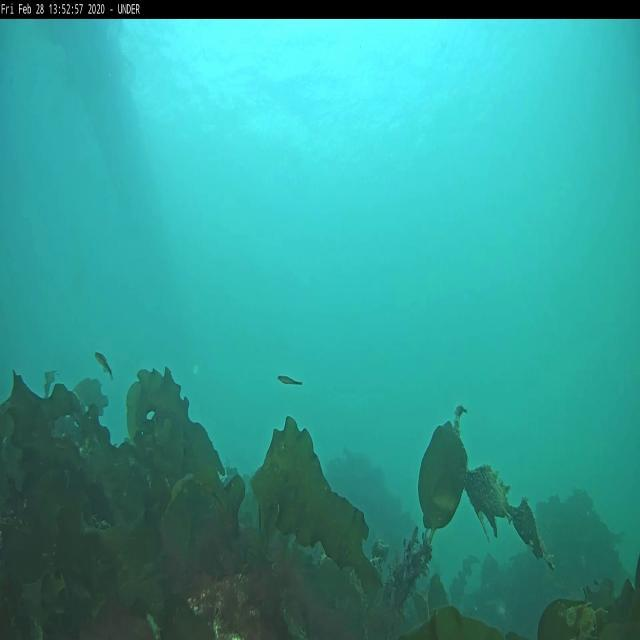fish: (95, 351, 114, 379), (276, 374, 303, 384)
